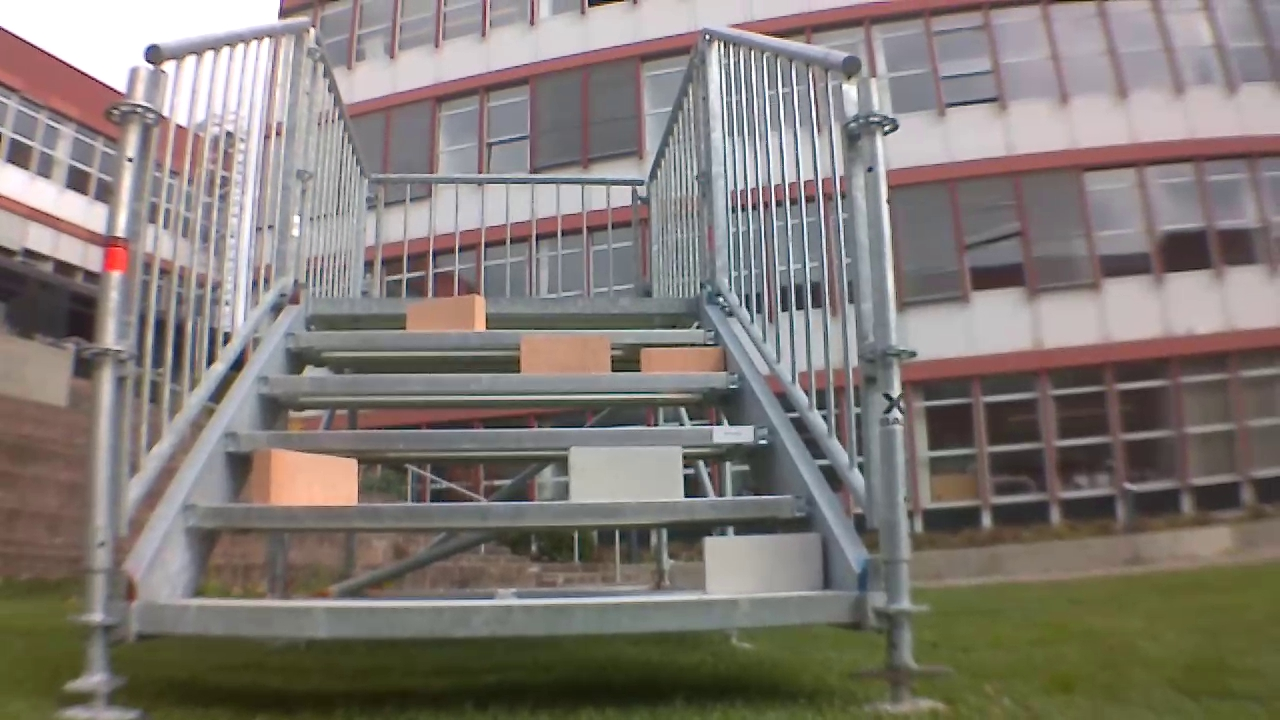brick: (704, 535, 823, 591), (568, 448, 682, 498), (254, 449, 355, 505), (522, 337, 610, 372), (406, 295, 484, 331), (641, 346, 721, 372)
edge: (140, 594, 860, 638), (185, 494, 807, 529), (225, 426, 773, 449), (258, 371, 742, 392), (286, 328, 718, 349), (309, 295, 698, 313)
stairs: (66, 18, 945, 718)
steps: (136, 289, 866, 644)
